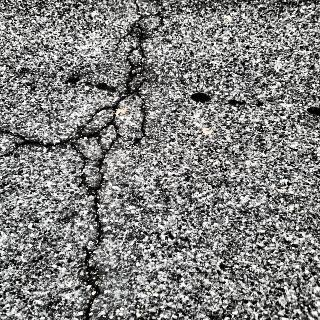alligator-crack: (5, 2, 176, 319)
